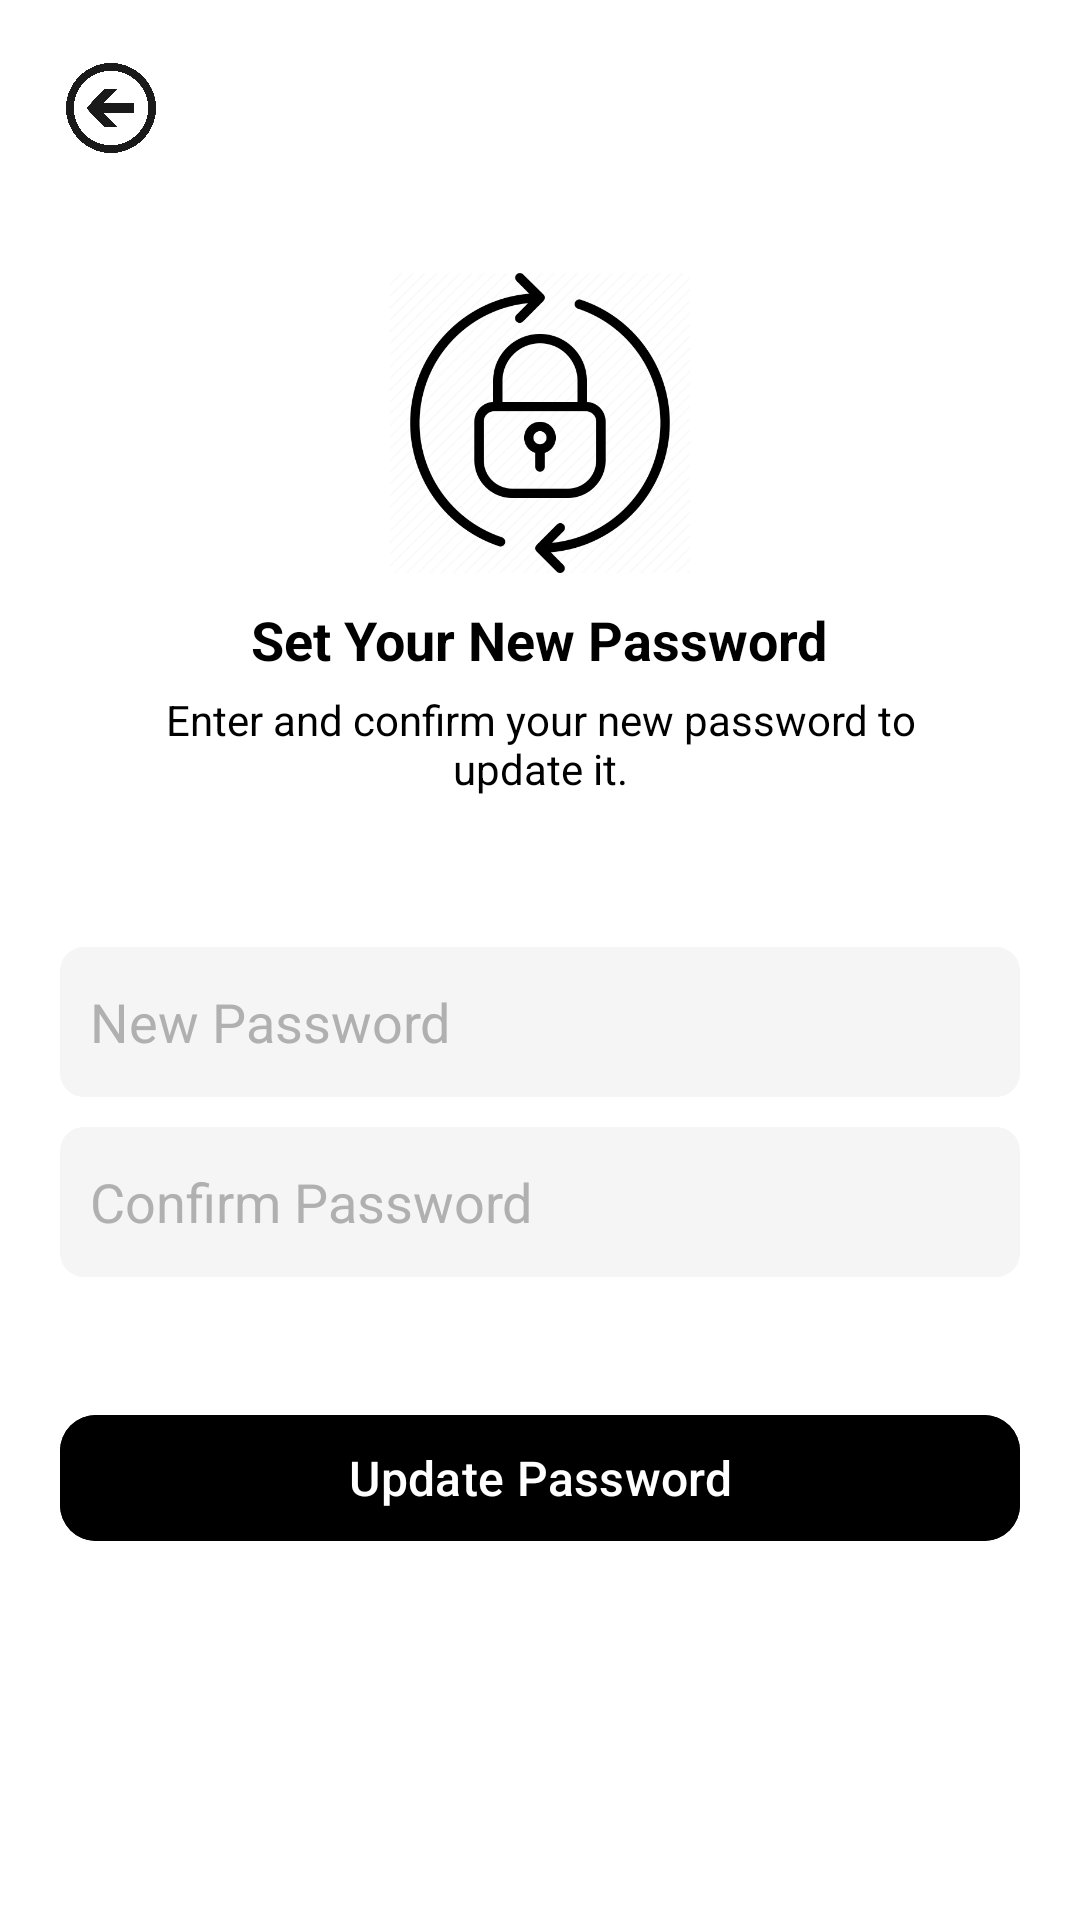

Locate icon controls on the screen. Image size 1080 × 1920, boxes as (x1, y1, x2, y2).
back: (66, 63, 156, 153)
lock: (410, 273, 670, 573)
